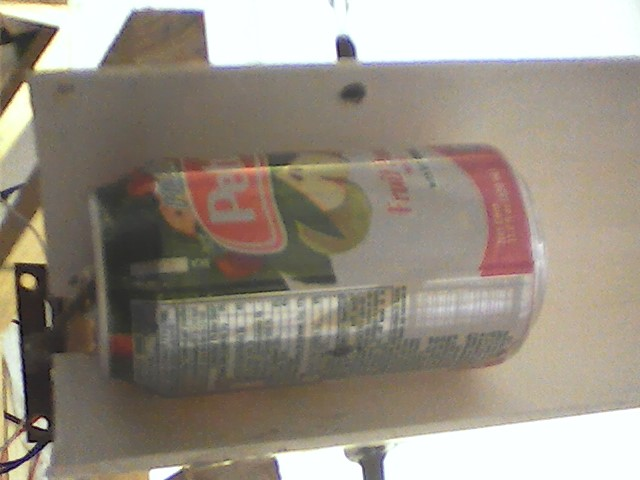lata: (82, 142, 551, 388)
